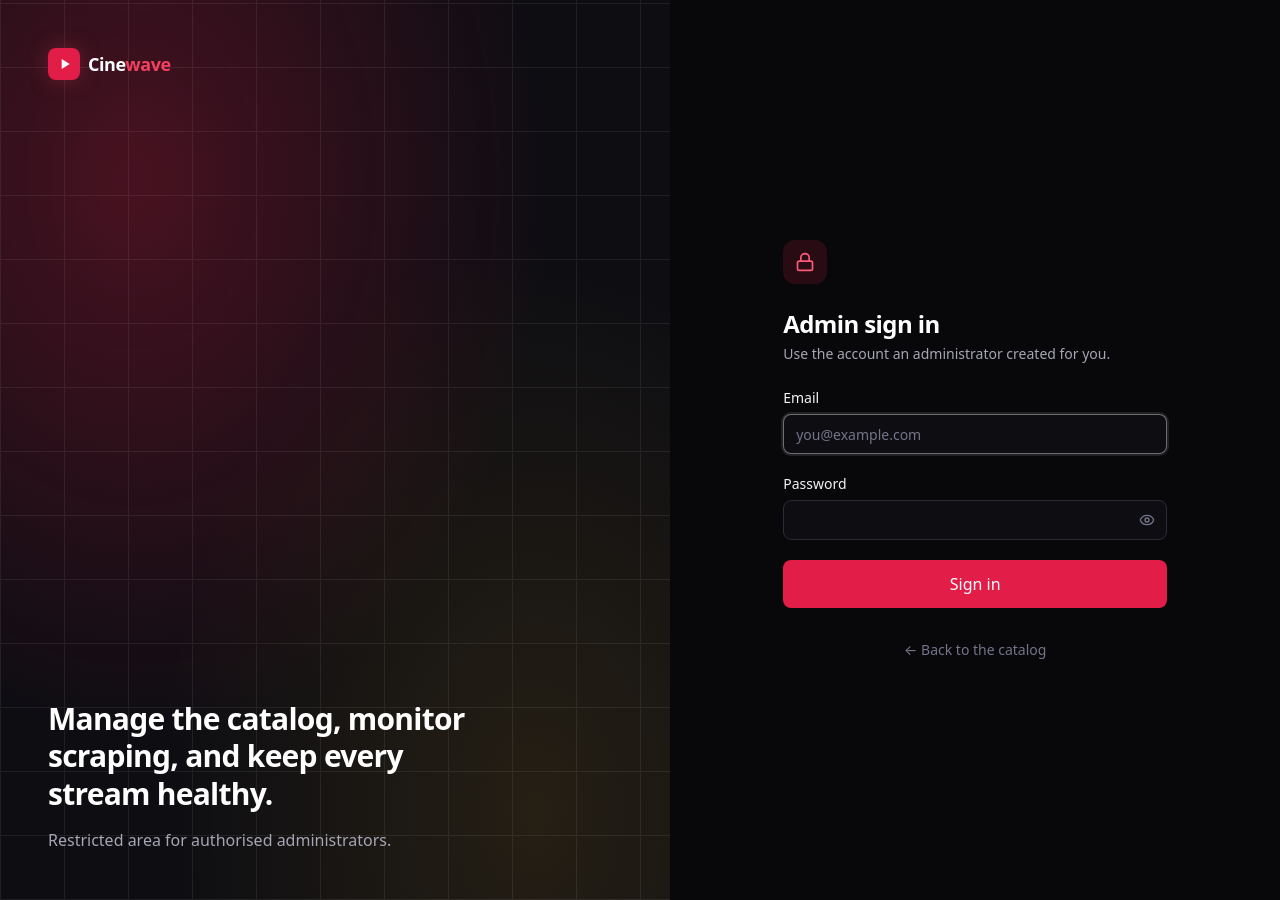
Test: login page › shows a clear message for wrong credentials and rate limiting
In the field labelled "Email": (975, 434) [783,414,1167,454], type "admin@example.com"
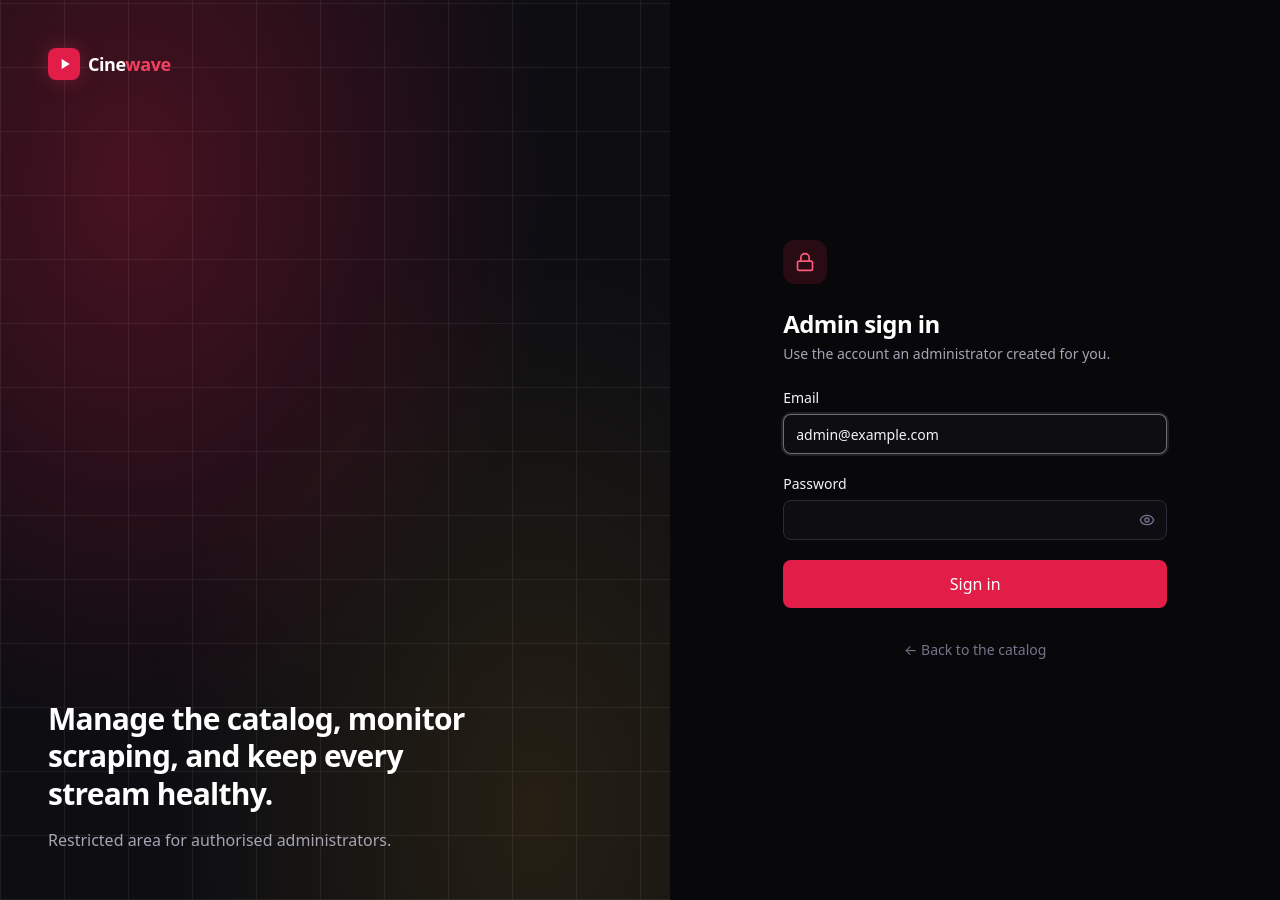
In the password field labelled "Password": (975, 520) [783,500,1167,540], type "wrong"
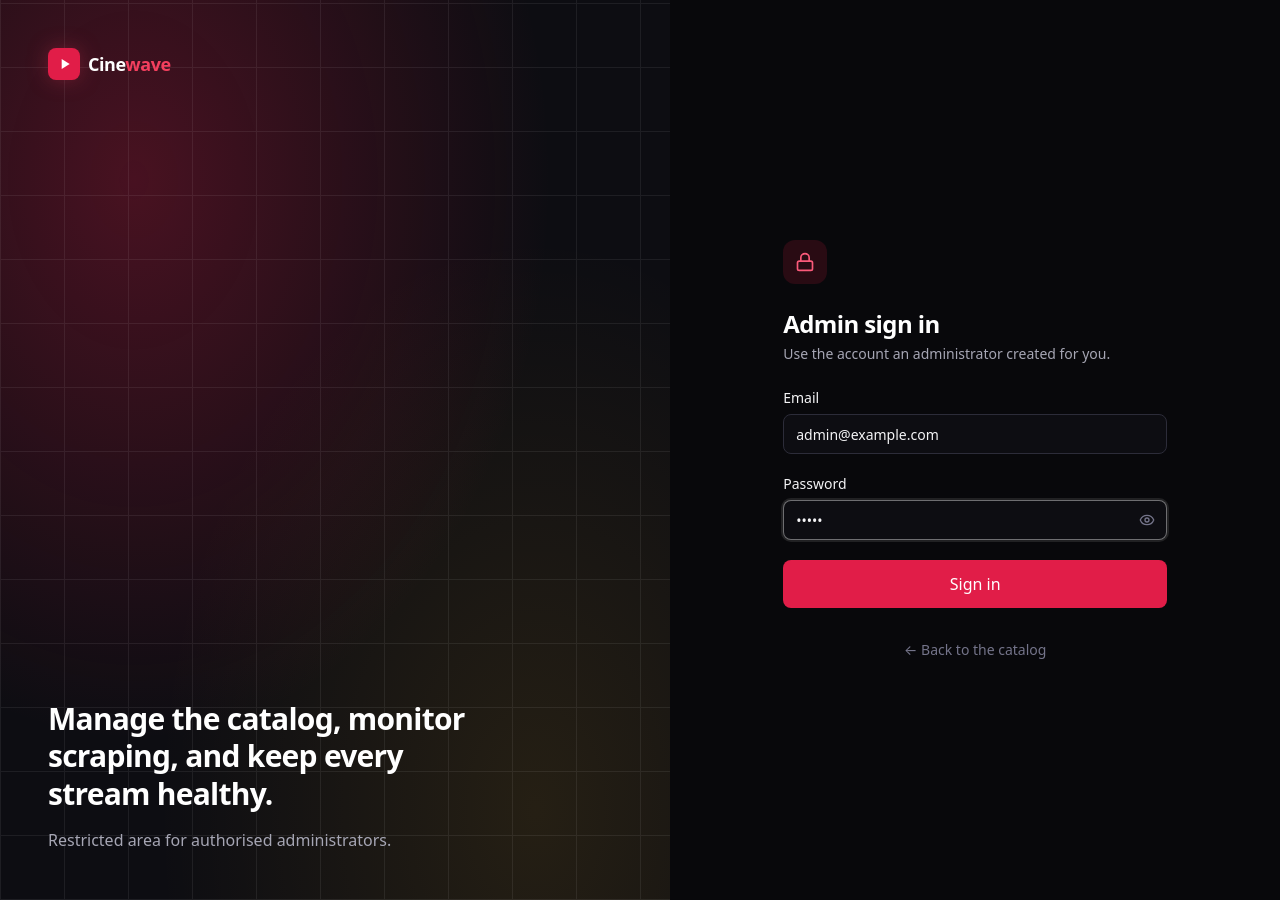
Click the button "Sign in": (975, 584) [783,560,1167,608]
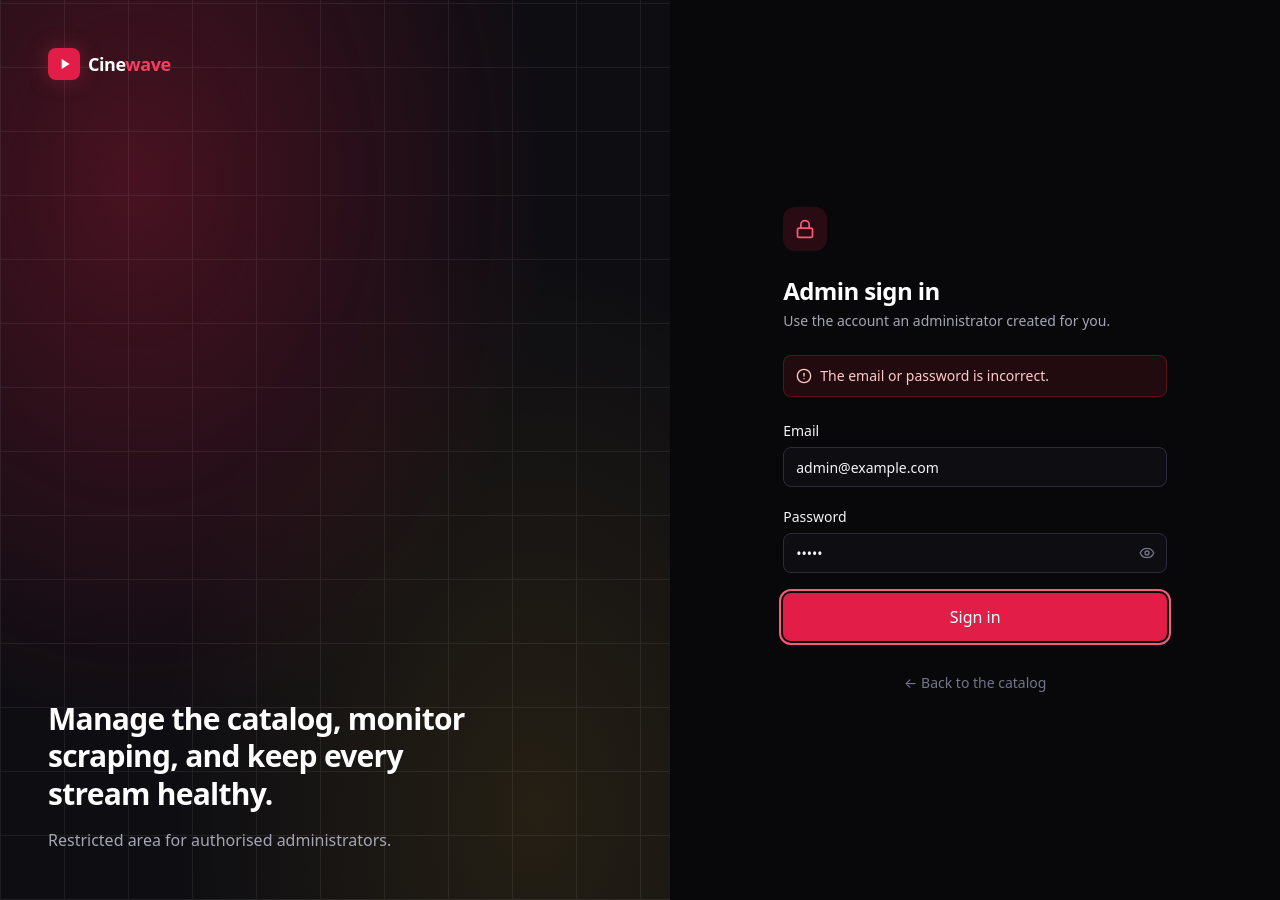
Expected: the text "The email or password is incorrect." is shown, [783,355,1167,397]
Click the button "Sign in": (975, 617) [783,593,1167,641]
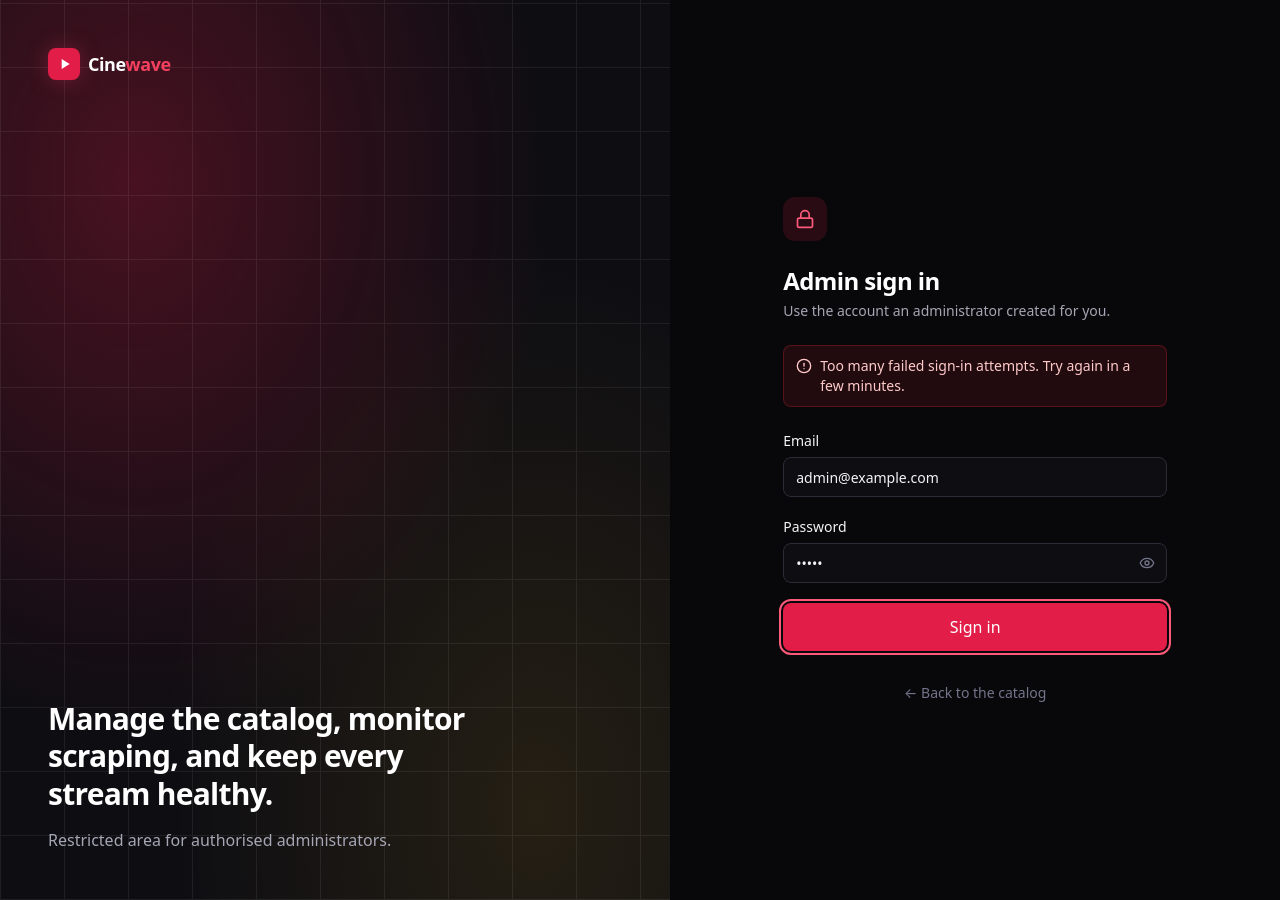
Expected: the text "Too many failed sign-in attempts. Try again in a few minutes." is shown, [783,345,1167,407]
